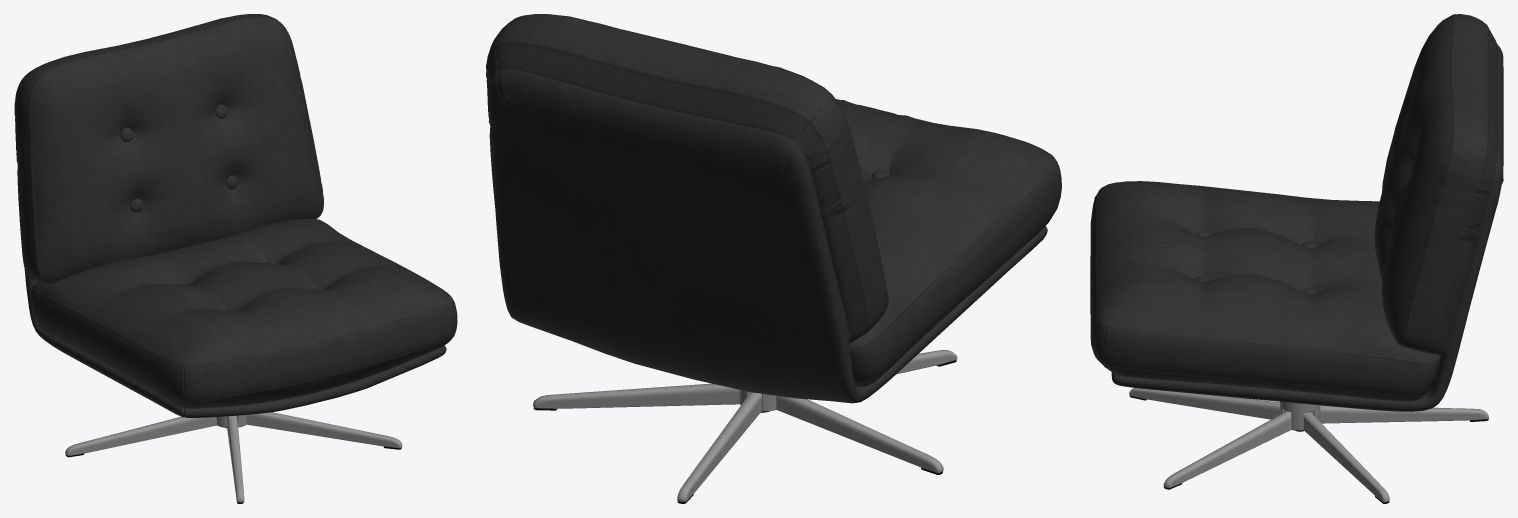
File: 20-DYVLINGE swivel armchair - Kelinge black (00555090).glb
3 renders of one model, left to right at view 1: azimuth 30°, elevation 25°; view 2: azimuth 150°, elevation 25°; view 3: azimuth 270°, elevation 25°, orthographic. The views are drawn at different scales.
Visible parts, largest first — view 1: G-00555090-DYVLINGE; view 2: G-00555090-DYVLINGE; view 3: G-00555090-DYVLINGE.
Part boxes in pixels (left/top/right/bottom): G-00555090-DYVLINGE: left=14, top=14, right=457, bottom=503; G-00555090-DYVLINGE: left=486, top=14, right=1061, bottom=503; G-00555090-DYVLINGE: left=1090, top=14, right=1503, bottom=503.
Bounding box in the file's own units: 0.6333 × 0.6945 × 0.7137.
Materials: 1 (1 with a texture image).
